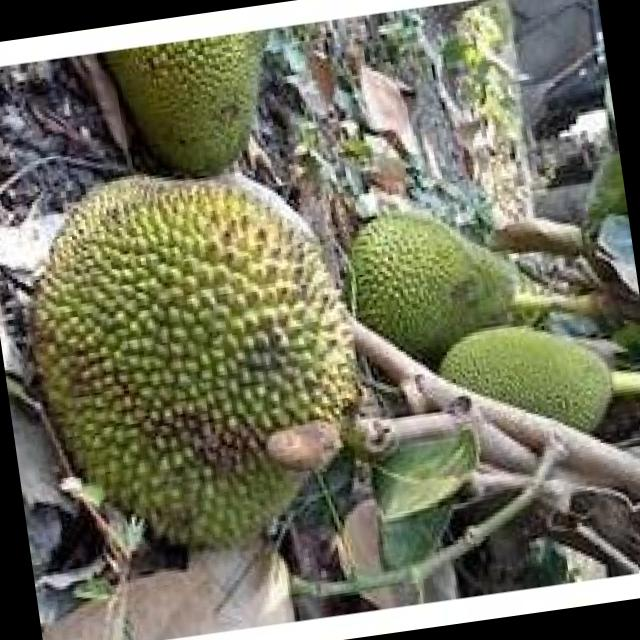Fruit: (0, 150, 416, 611), (319, 180, 546, 397), (56, 22, 312, 202), (393, 288, 637, 472)
